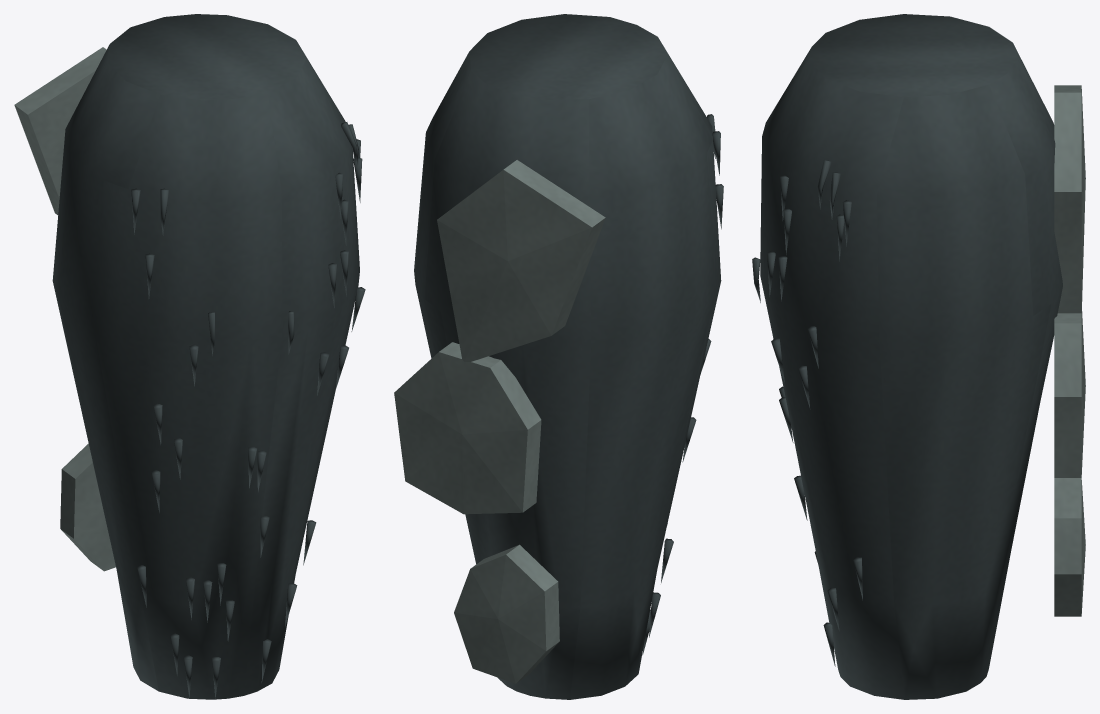
File: shin_l_lod1.glb
3 views of the same model, side by side, from view 1: azimuth 30°, elevation 25°; view 2: azimuth 150°, elevation 25°; view 3: azimuth 270°, elevation 25° (orthographic).
Parts seen in each view (by area): view 1: dormin_shin_l_LOD1; view 2: dormin_shin_l_LOD1; view 3: dormin_shin_l_LOD1.
Boxes of the visible parts, x1,y1,x2,y2 form: dormin_shin_l_LOD1: [14, 14, 365, 699]; dormin_shin_l_LOD1: [394, 14, 723, 699]; dormin_shin_l_LOD1: [752, 14, 1085, 699].
Size of the model in its own units: 1.64 by 3.58 by 1.76.
2 materials, 2 textured.
